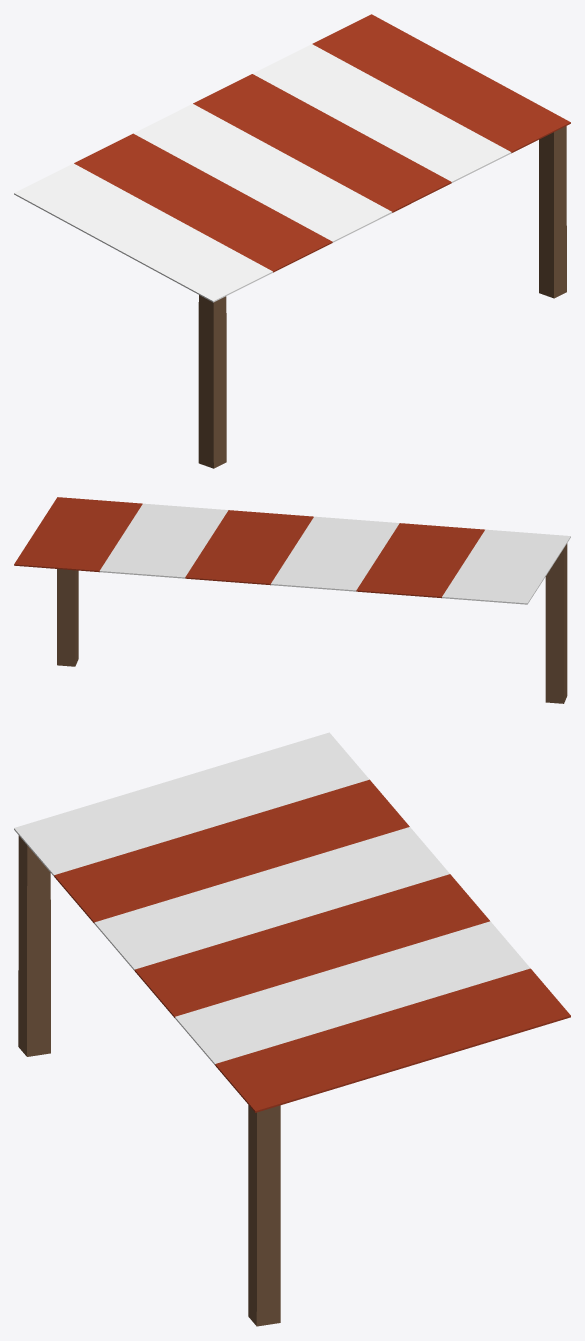
Rendered from storefront.glb.
3 renders of one model, top to bottom at view 1: azimuth 30°, elevation 25°; view 2: azimuth 150°, elevation 25°; view 3: azimuth 270°, elevation 25°, orthographic. The views are drawn at different scales.
Visible parts, largest first — view 1: storefront; view 2: storefront; view 3: storefront.
Part boxes in pixels (left/top/right/bottom): storefront: left=14, top=14, right=570, bottom=468; storefront: left=14, top=497, right=570, bottom=703; storefront: left=14, top=732, right=570, bottom=1326.
Bounding box in the file's own units: 1.78 × 0.665 × 1.27.
